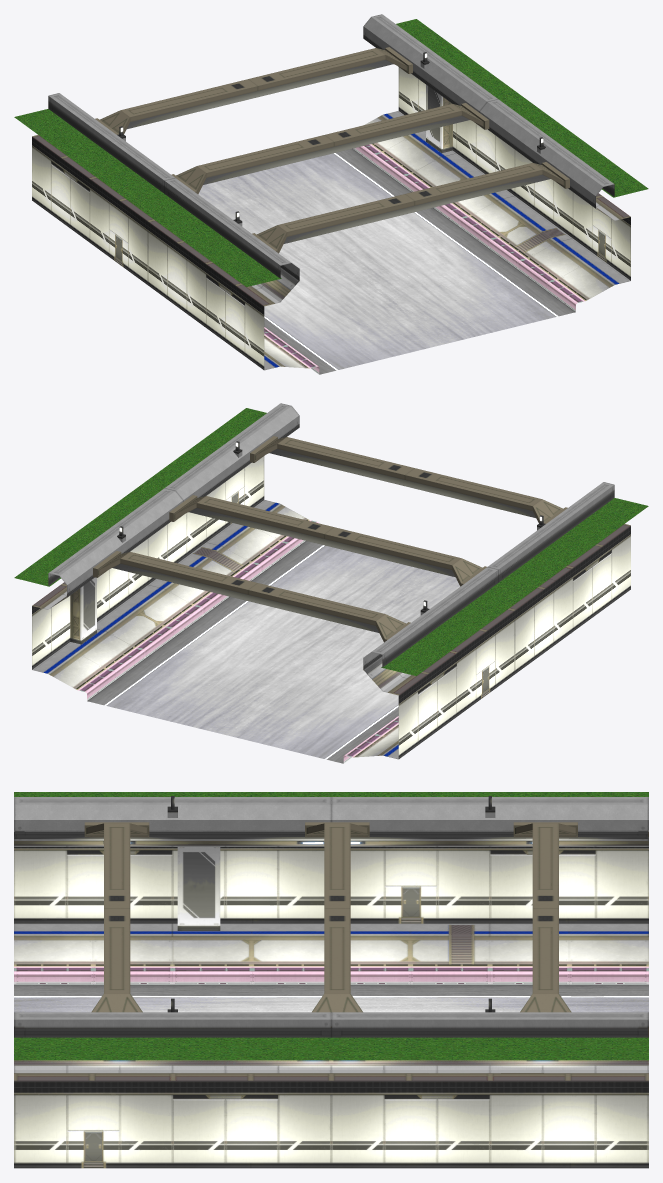
The picture shows the model from 3 angles, top to bottom: view 1: azimuth 30°, elevation 25°; view 2: azimuth 150°, elevation 25°; view 3: azimuth 270°, elevation 25°; orthographic projection. The views are drawn at different scales.
Parts seen in each view (by area): view 1: standard_trench, standard_road, sta_trench_arches_1, trench_grass, wall_straight_tunnel; view 2: standard_trench, standard_road, sta_trench_arches_1, trench_grass, wall_straight_tunnel; view 3: standard_trench, trench_grass, sta_trench_arches_1, standard_road, wall_straight_tunnel.
Boxes of the visible parts, x1,y1,x2,y2 form: standard_trench: (32,14,630,370); standard_road: (198,148,575,374); sta_trench_arches_1: (95,47,569,253); trench_grass: (14,19,648,286); wall_straight_tunnel: (264,144,584,374); standard_trench: (32,403,630,759); standard_road: (87,541,460,763); sta_trench_arches_1: (93,436,567,642); trench_grass: (14,408,648,675); wall_straight_tunnel: (78,520,398,763); standard_trench: (14,797,648,1168); trench_grass: (14,792,648,1060); sta_trench_arches_1: (84,822,577,1012); standard_road: (14,984,648,1012); wall_straight_tunnel: (14,966,648,984).
Bounding box in the file's own units: 6400 × 1913 × 6400.
